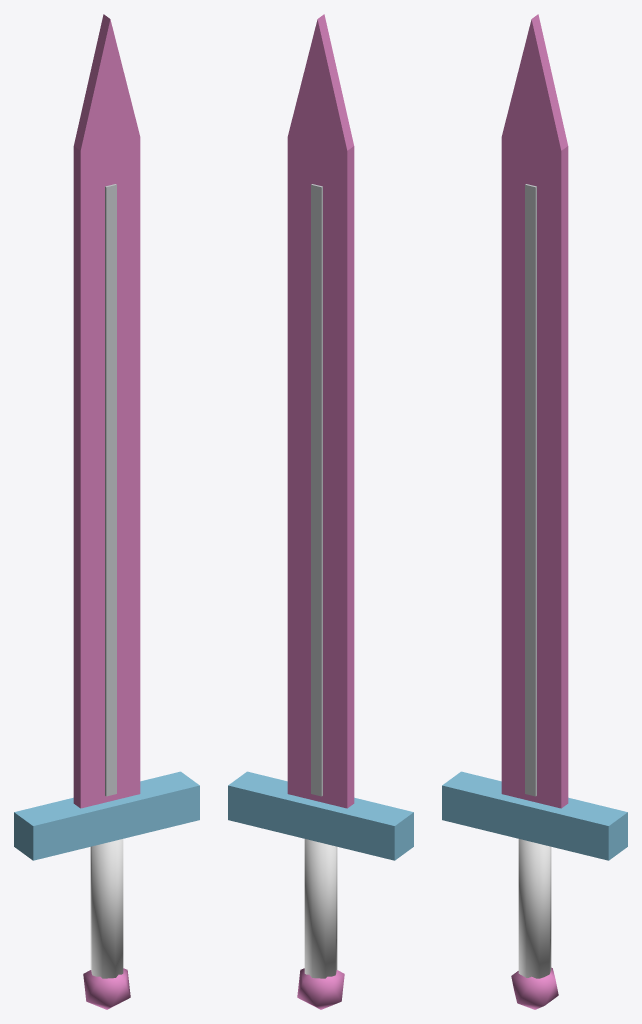
The model's file is meowmere.glb.
3 renders of one model, left to right at view 1: azimuth 30°, elevation 25°; view 2: azimuth 150°, elevation 25°; view 3: azimuth 330°, elevation 25°, orthographic.
Parts seen in each view (by area): view 1: meowmere_v0; view 2: meowmere_v0; view 3: meowmere_v0.
Boxes of the visible parts, x1,y1,x2,y2 form: meowmere_v0: (14, 14, 199, 1009); meowmere_v0: (228, 14, 413, 1009); meowmere_v0: (442, 14, 627, 1009).
Size of the model in its own units: 0.252 by 1.44 by 0.0595.
